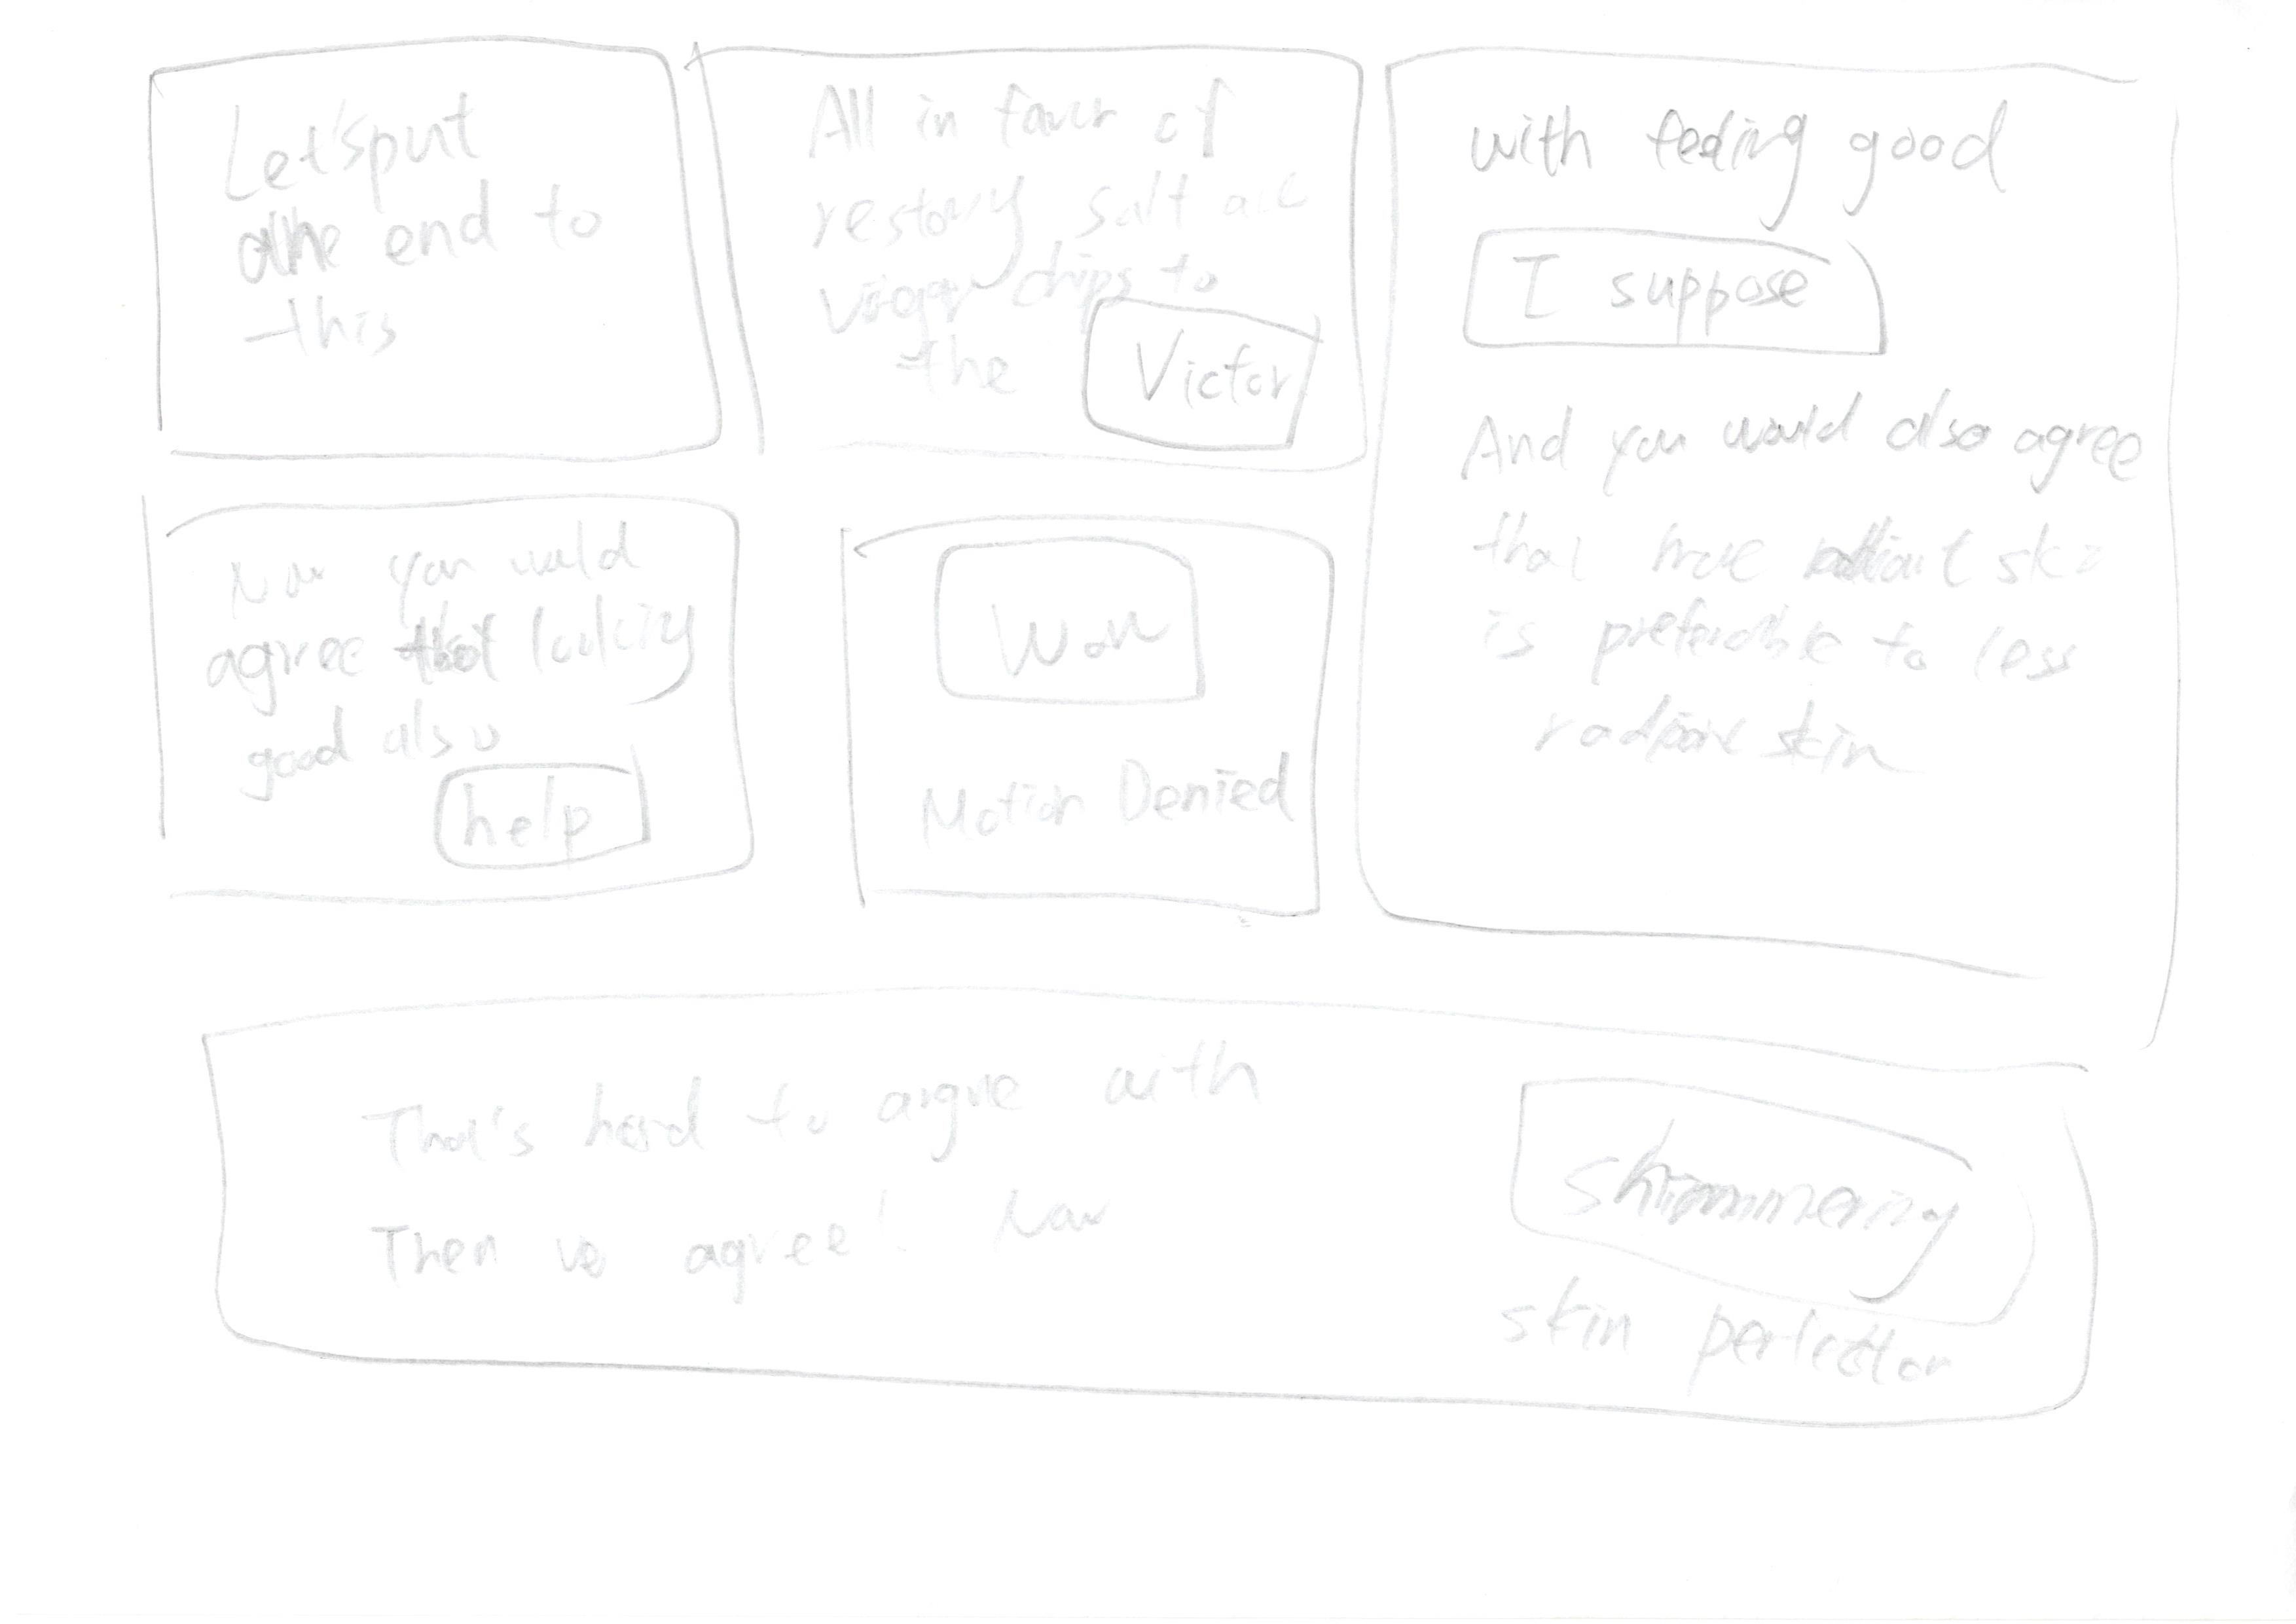btn-active: (1471, 1051, 2025, 1313), (1438, 211, 1934, 376), (893, 524, 1218, 712), (1039, 278, 1355, 457), (403, 740, 675, 877)
row: (7, 0, 2259, 1023), (44, 1007, 2285, 1487)
text: (1413, 378, 2150, 856), (329, 1039, 1413, 1318), (192, 83, 635, 378), (772, 60, 1308, 279), (195, 522, 694, 754), (1480, 1281, 1999, 1408), (1452, 100, 2089, 185), (886, 735, 1287, 854)
